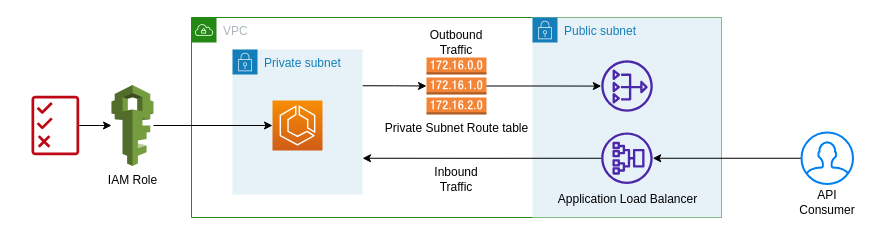
Some shapes in this 874 by 235 pixel diagram are drawn without their labels. Each missing label, with the centre of its shape:
"ECS Cluster" belongs at (x=297, y=125).
"Nat Gateway" belongs at (x=626, y=85).
"Scoped down permissions" belongs at (x=55, y=125).
